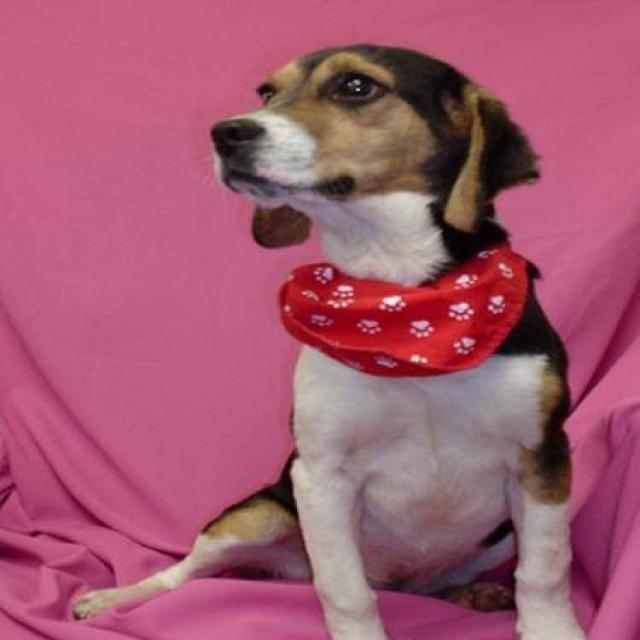dog: (70, 41, 594, 639)
